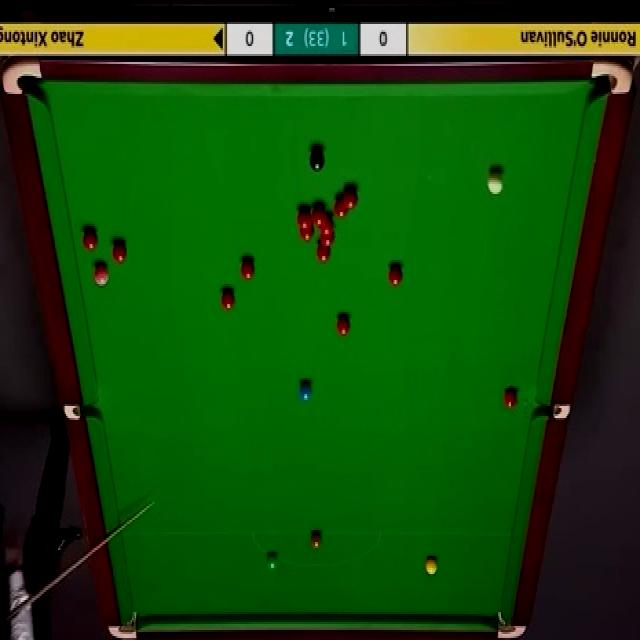black-ball: (309, 144, 325, 174)
blue-ball: (298, 382, 313, 403)
brown-ball: (310, 530, 323, 550)
green-ball: (266, 551, 279, 571)
pink-ball: (93, 262, 109, 288)
red-ball: (333, 192, 350, 220), (387, 261, 404, 288), (342, 188, 359, 212), (81, 228, 98, 251), (110, 240, 126, 264), (297, 205, 312, 230), (502, 388, 519, 410), (241, 256, 256, 280), (220, 288, 235, 312), (336, 314, 351, 336), (312, 205, 326, 227), (316, 246, 332, 263), (320, 216, 334, 234), (320, 232, 334, 248), (300, 227, 314, 240)
white-ball: (487, 170, 503, 193)
yellow-ball: (424, 554, 437, 575)
